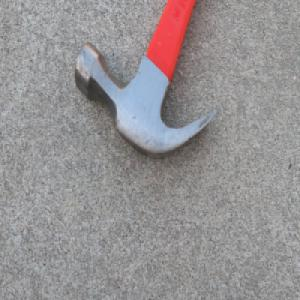Hammer: (71, 0, 222, 162)
